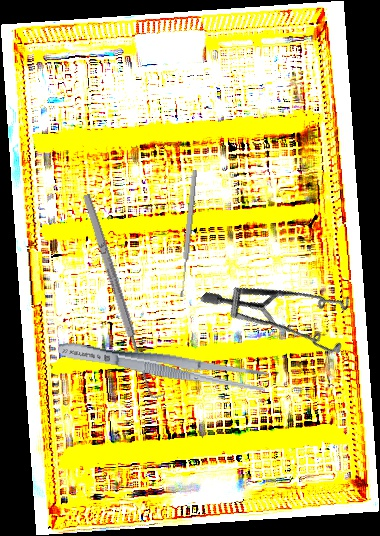Dressing Forceps: (56, 335, 269, 395)
Hook Surgical: (79, 190, 166, 402)
Speculum: (198, 223, 372, 397)
Surgical Spoon: (177, 169, 199, 298)
